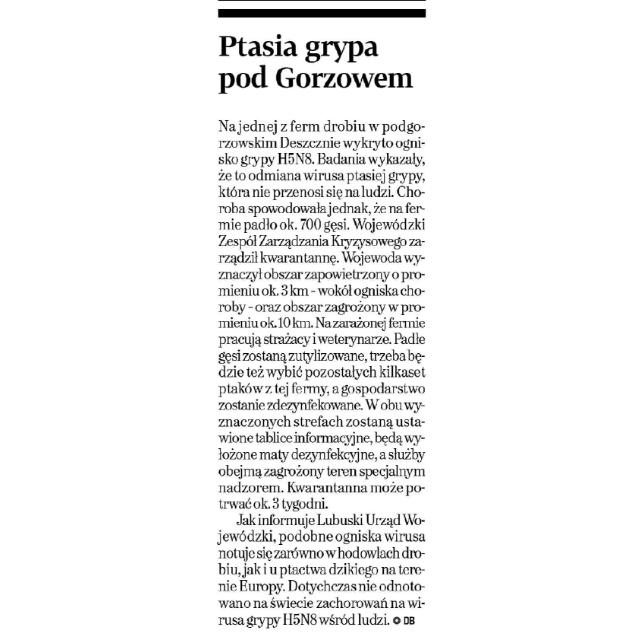body: (212, 112, 433, 640)
title: (212, 27, 420, 103)
